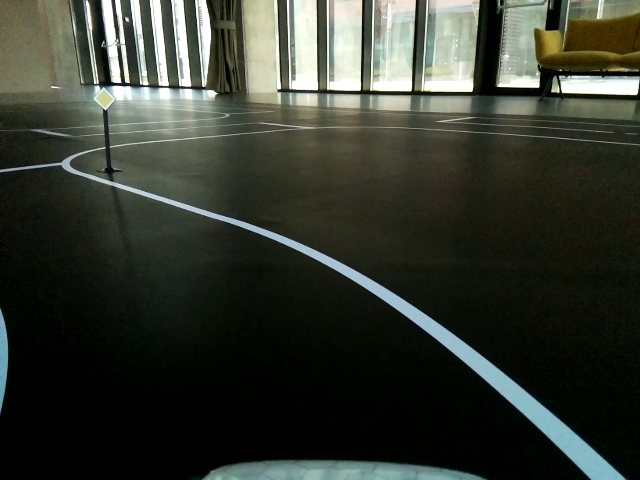priority: (92, 87, 116, 109)
